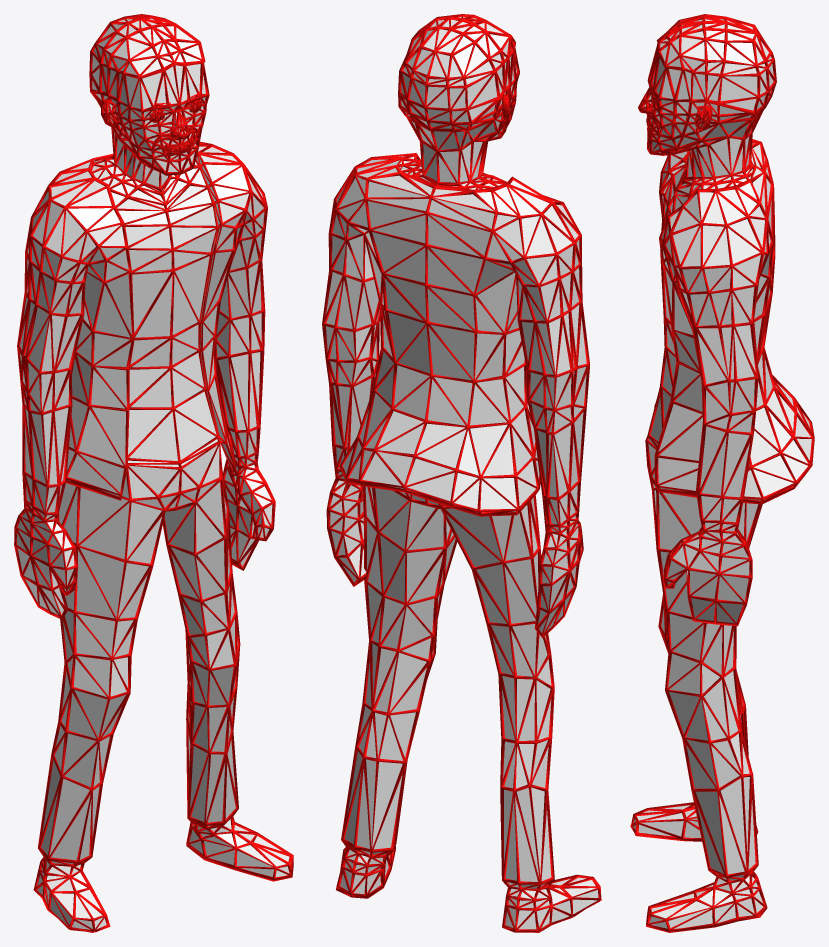
Rendered from elegantIdle_000023.obj.
The picture shows the model from 3 angles, left to right: view 1: azimuth 30°, elevation 25°; view 2: azimuth 150°, elevation 25°; view 3: azimuth 270°, elevation 25°; orthographic projection. The views are drawn at different scales.
Visible parts, largest first — view 1: BaseHuman_Cylinder.002; view 2: BaseHuman_Cylinder.002; view 3: BaseHuman_Cylinder.002.
Boxes of the visible parts, x1,y1,x2,y2 form: BaseHuman_Cylinder.002: (14, 14, 293, 932); BaseHuman_Cylinder.002: (322, 14, 601, 932); BaseHuman_Cylinder.002: (630, 14, 814, 932).
Size of the model in its own units: 1.44 by 4.84 by 0.9495.
